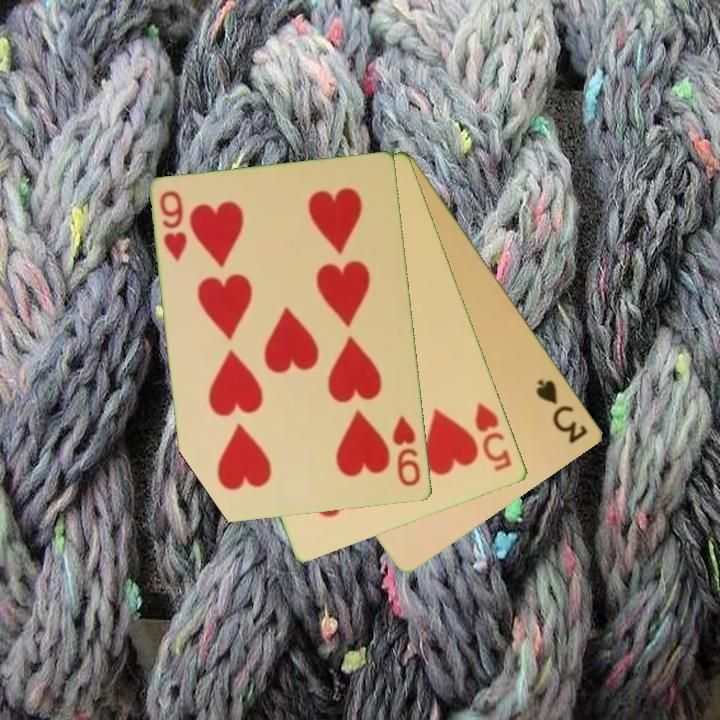3s: (533, 375, 592, 447)
5h: (471, 398, 515, 474)
9h: (389, 413, 424, 490), (156, 188, 191, 265)
